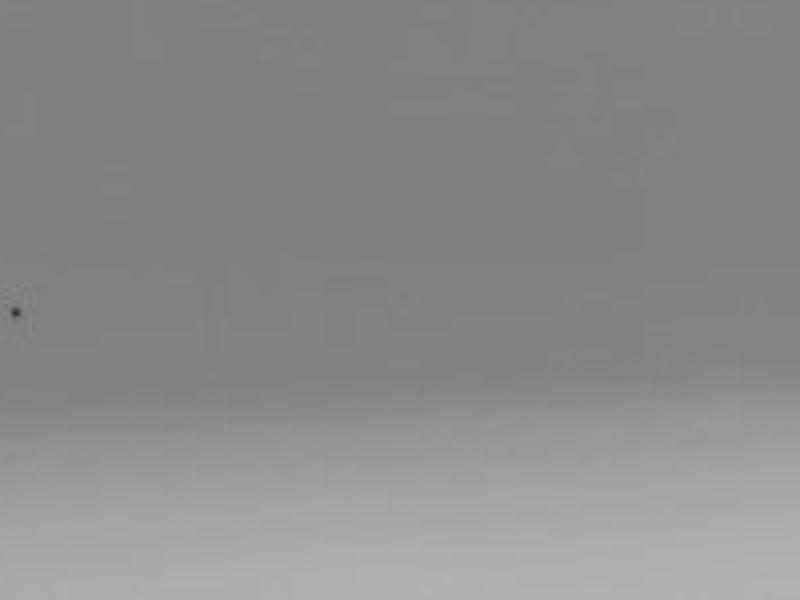defect: (10, 304, 23, 318)
